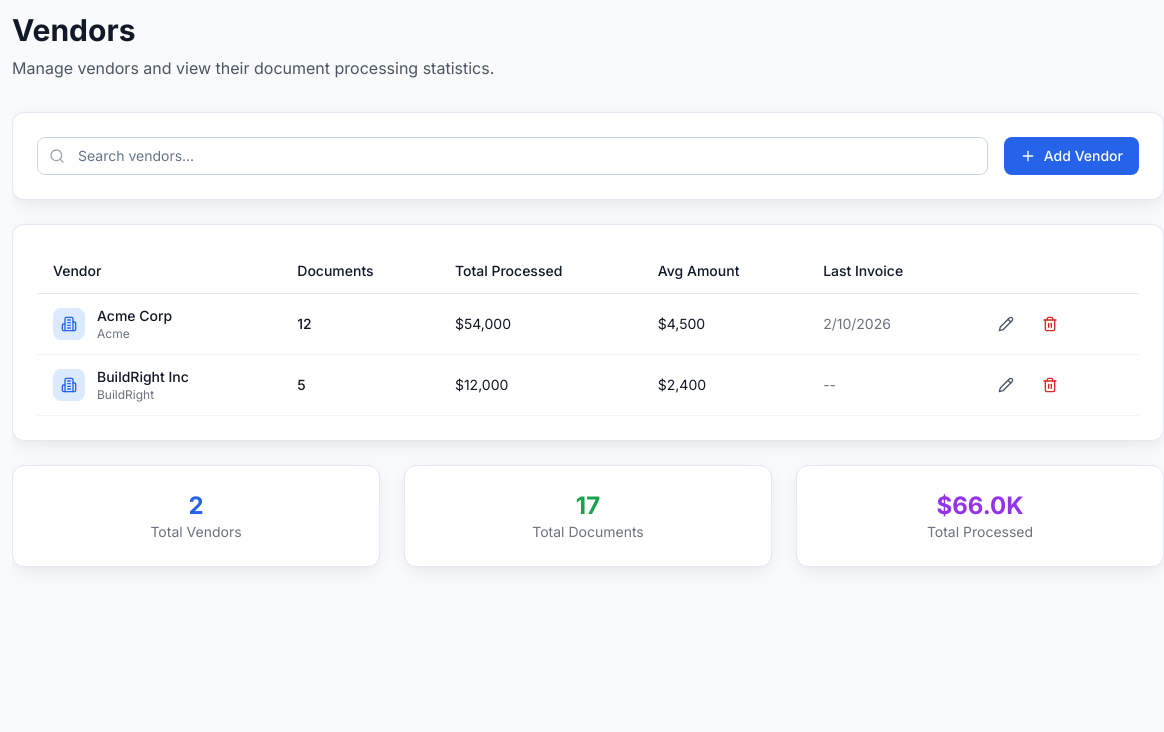
it: Vendors › filters vendors by search query
This screenshot has width=1164, height=732.
Type "Acme" into the field with placeholder "Search vendors...".
click(512, 156); type("Acme")  # box [37,137,988,175]
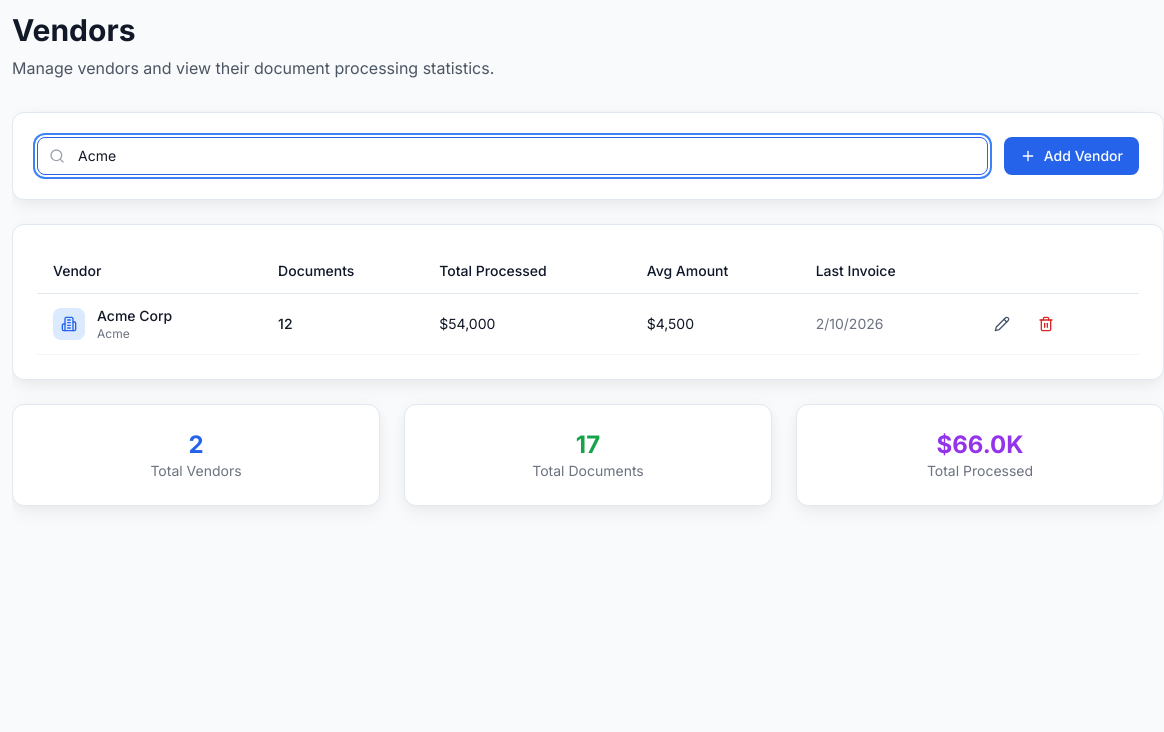
expect the text "Acme Corp" is shown: met, box [97,306,172,326]
expect the text "BuildRight Inc" is gone: met
